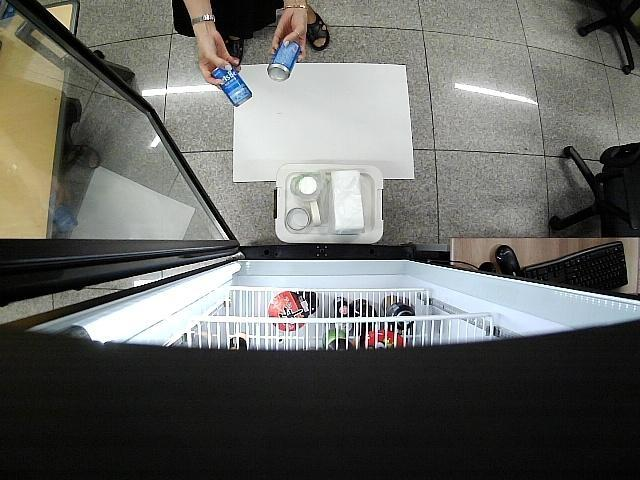15_letsbe: (210, 66, 253, 108), (266, 40, 301, 82)
